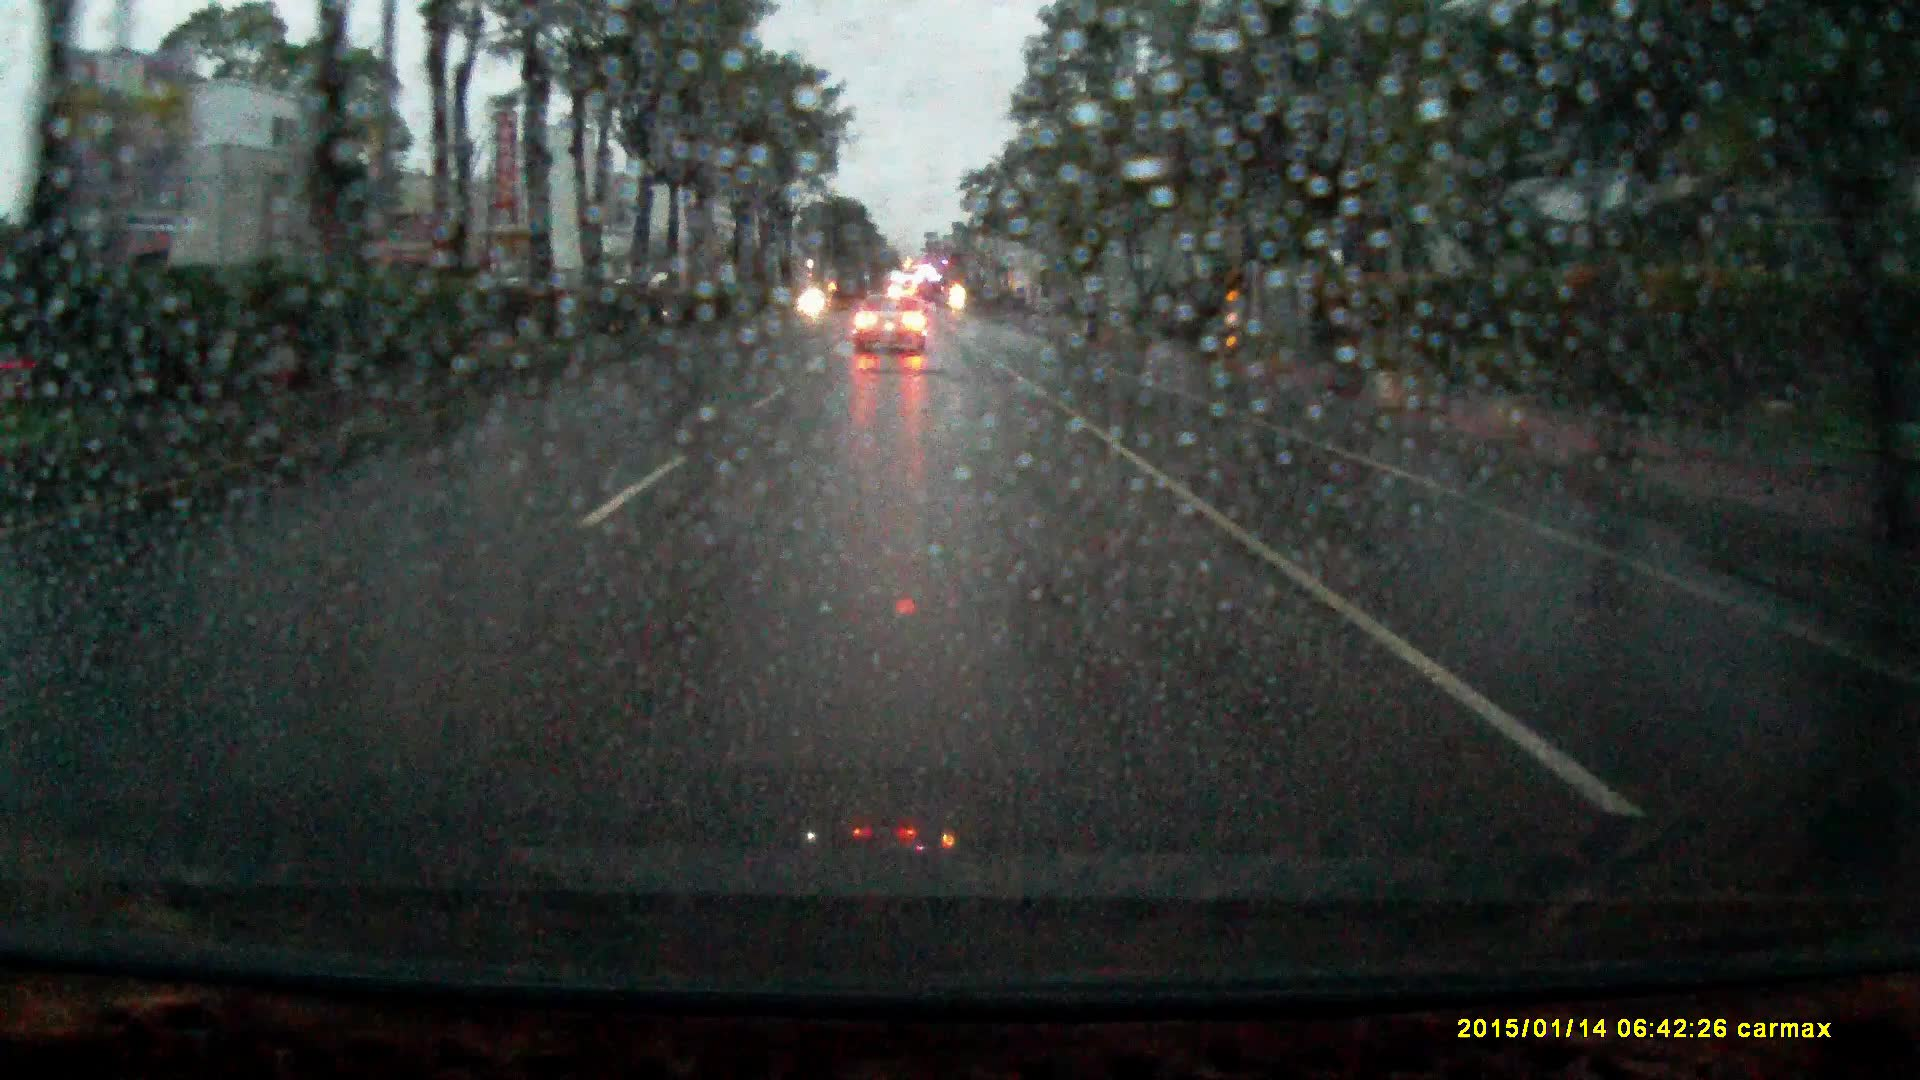vehicle: (851, 294, 932, 360)
